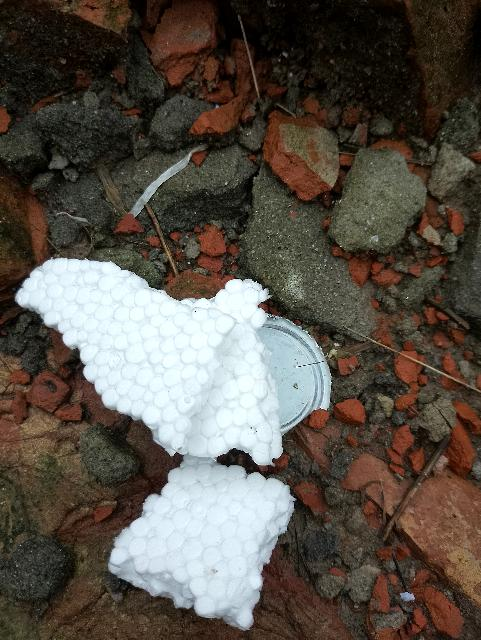cocksheet: (19, 259, 300, 486), (106, 445, 307, 639)
